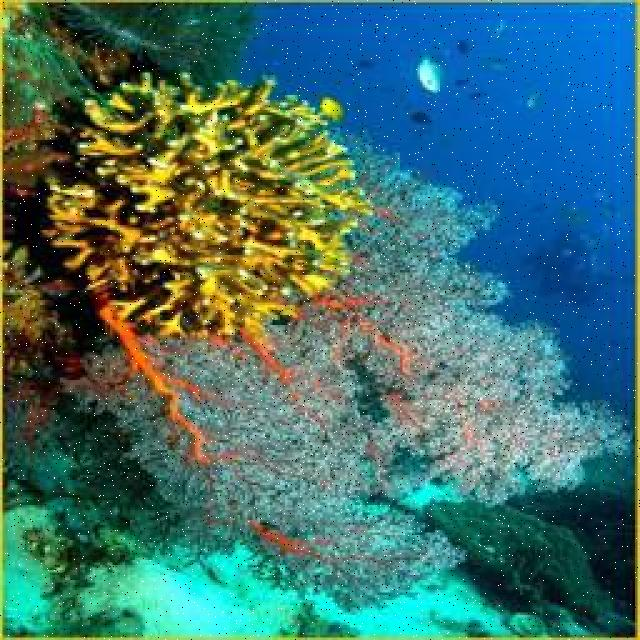reefs: (57, 124, 636, 616), (40, 68, 381, 339)
